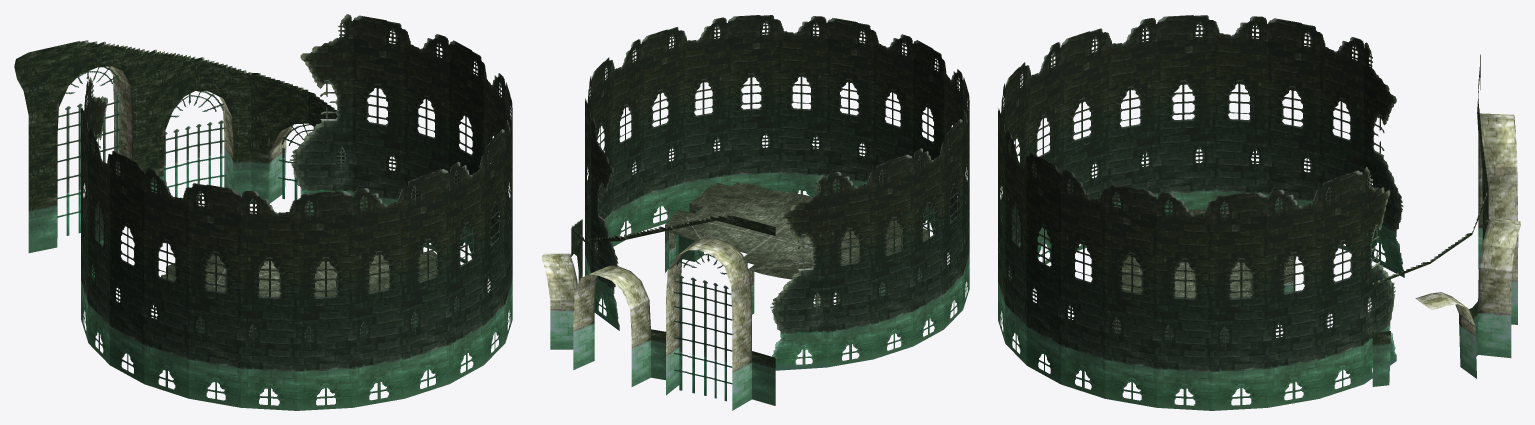
Rendered from MemoriaOcean.glb.
3 views of the same model, side by side, from view 1: azimuth 30°, elevation 25°; view 2: azimuth 150°, elevation 25°; view 3: azimuth 270°, elevation 25° (orthographic). The views are drawn at different scales.
Visible parts, largest first — view 1: Walls, Ground; view 2: Walls, Ground; view 3: Walls, Ground.
Boxes of the visible parts, x1,y1,x2,y2 form: Walls: (14,14,512,410); Ground: (161,249,459,342); Walls: (541,15,969,410); Ground: (665,182,929,314); Walls: (998,15,1520,410); Ground: (1114,209,1296,342).
Size of what is drawn, in the model's own units: 90 by 50 by 110.
14 materials, 12 textured.
